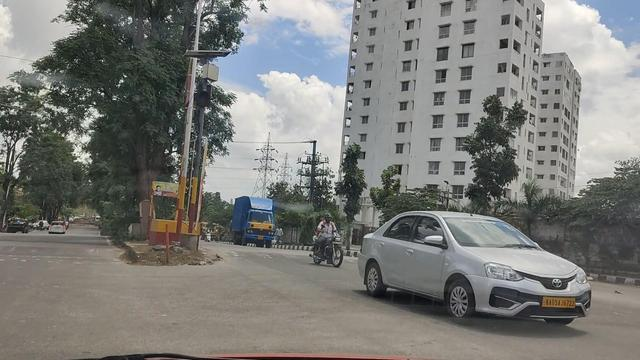LMV: (360, 209, 592, 330)
